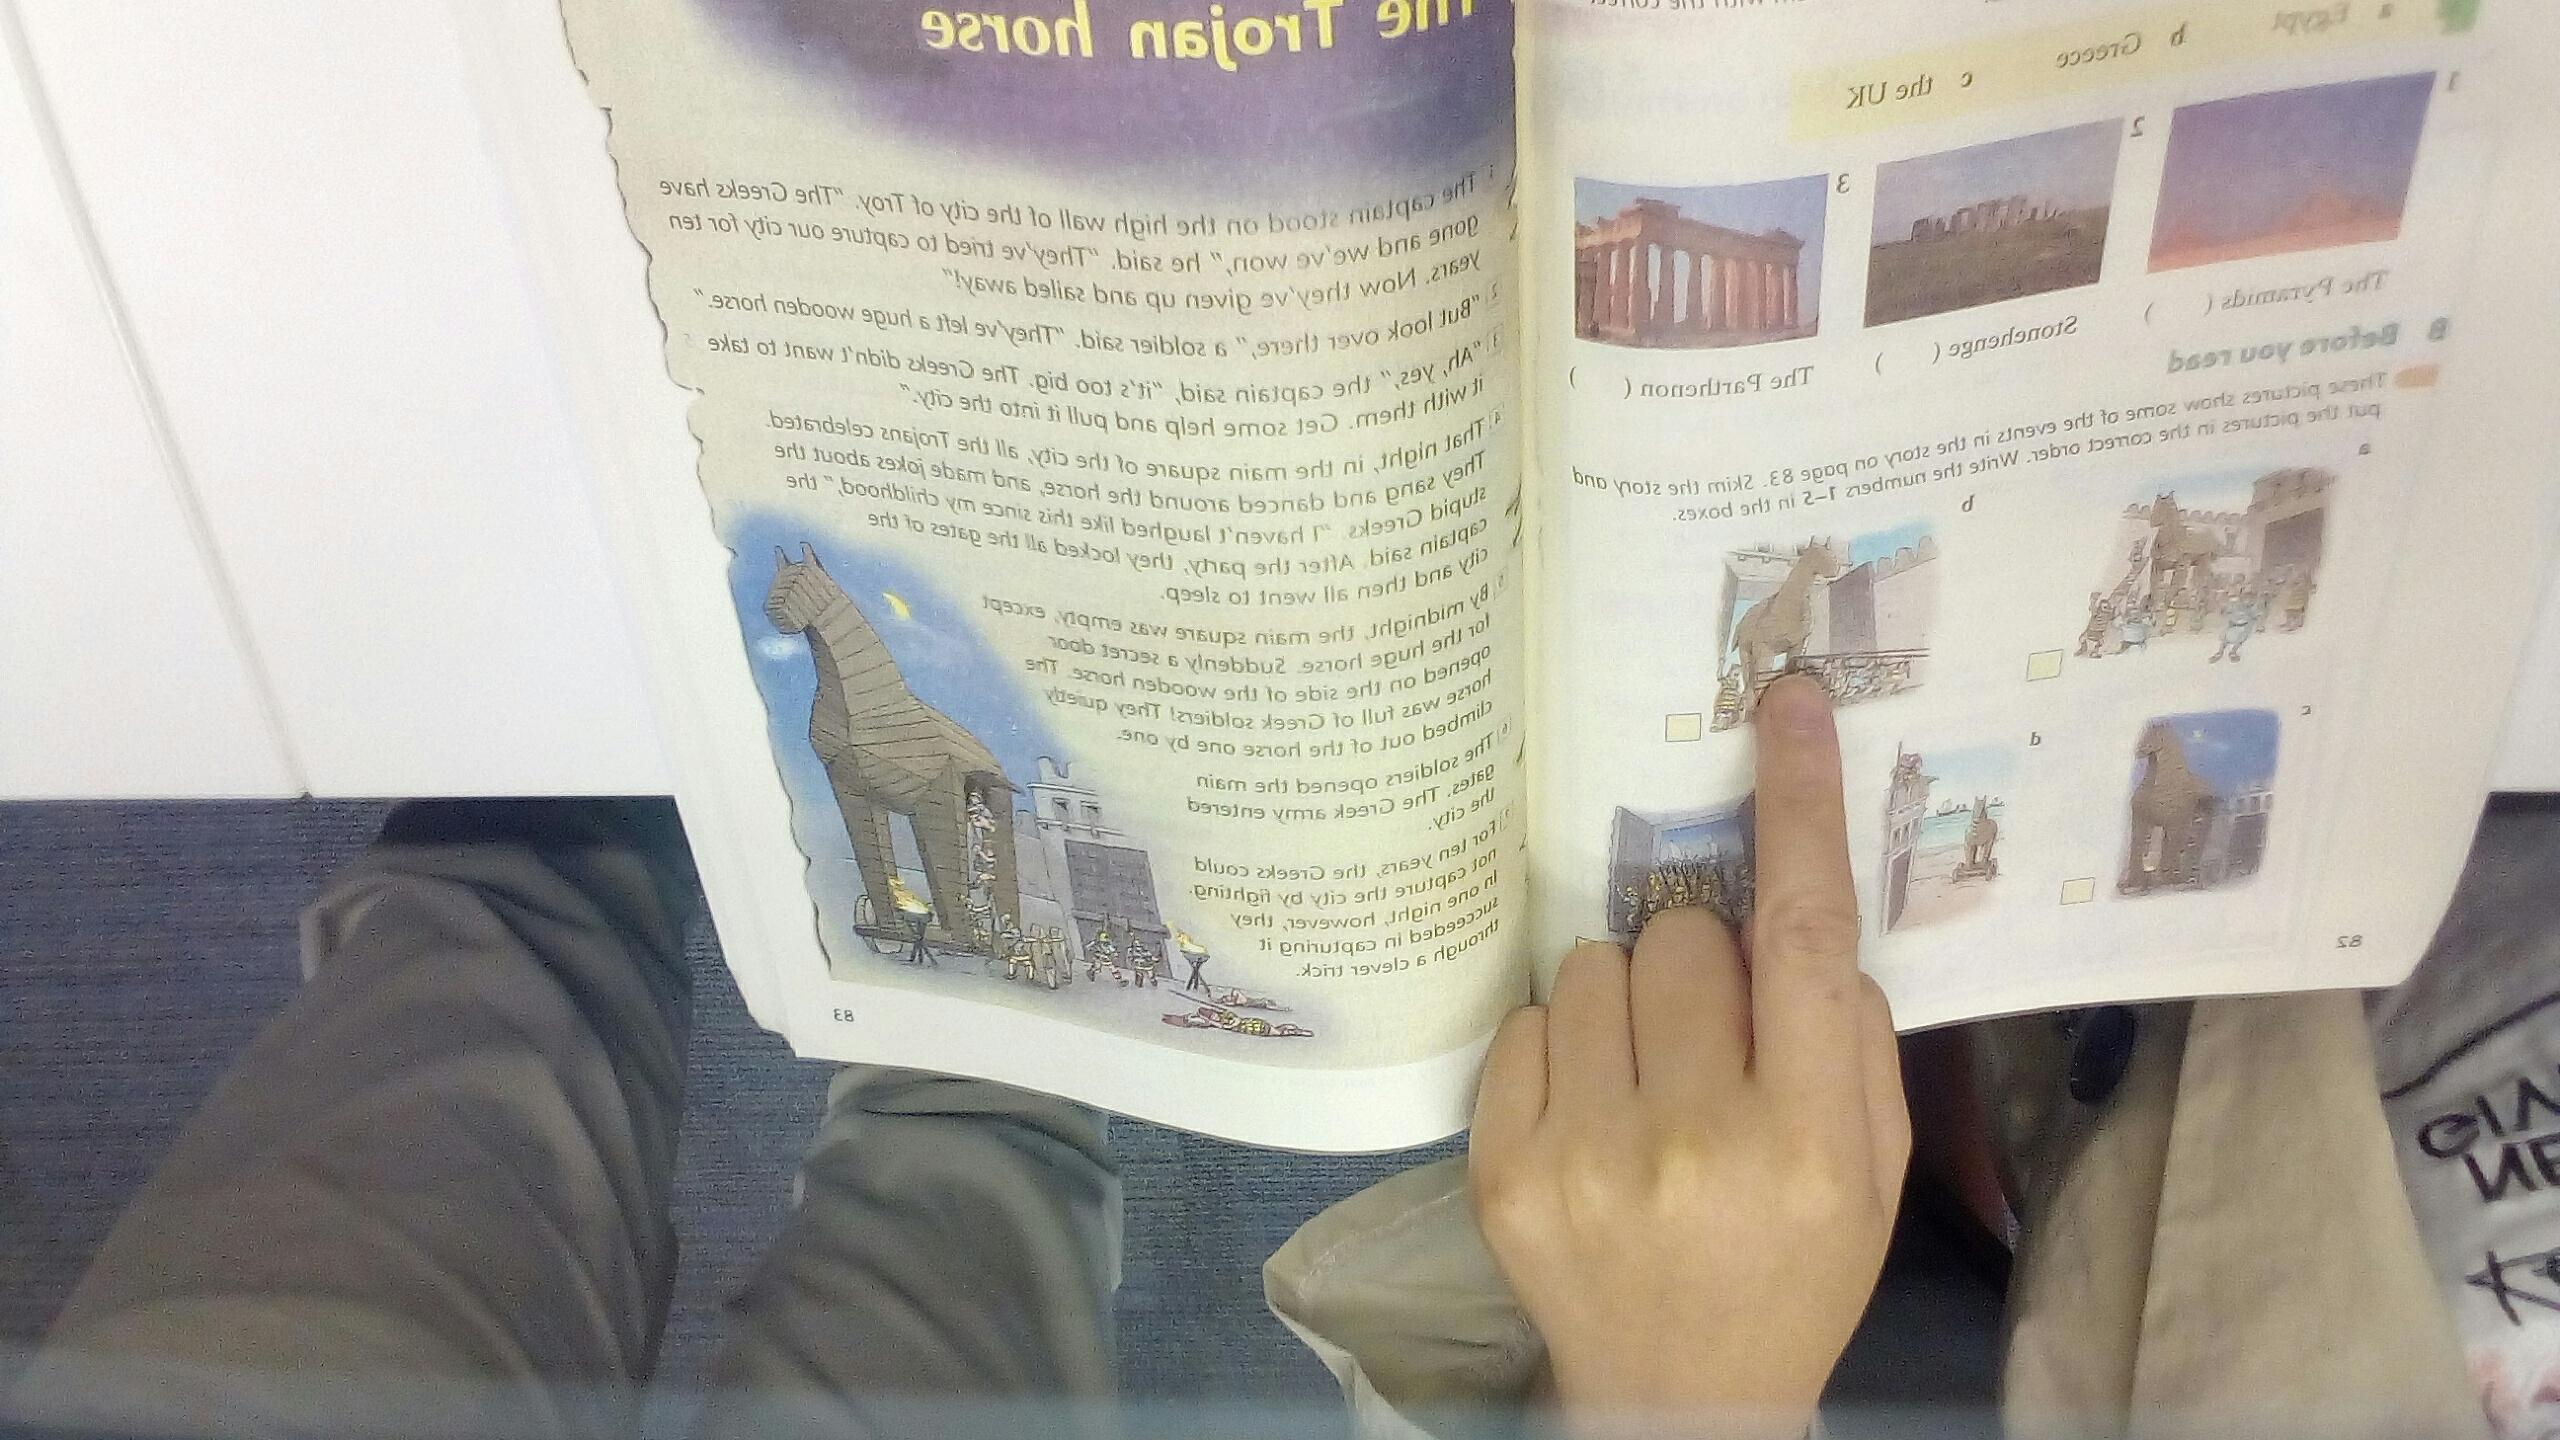1: (11, 11, 100, 100)
2: (49, 49, 100, 100)
fingernail: (1749, 665, 1837, 758)
hand: (1451, 654, 1924, 1435)
